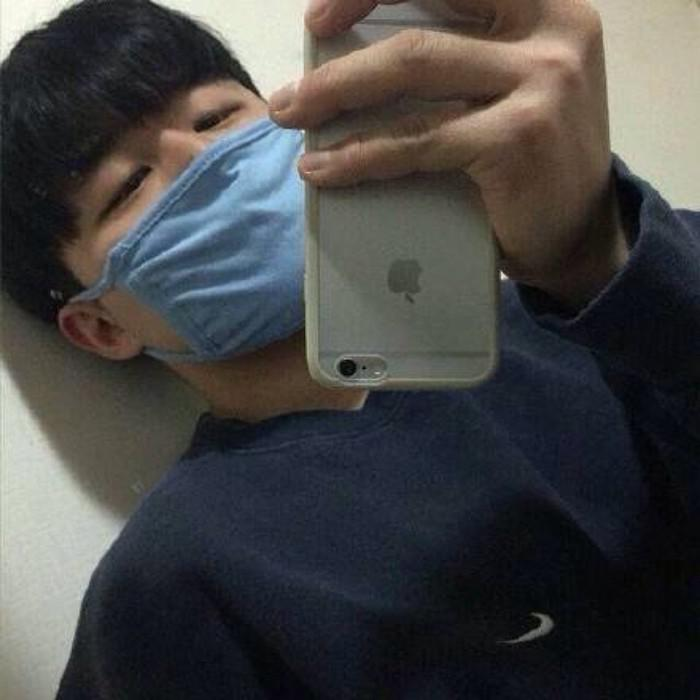OK: (57, 98, 303, 344)
